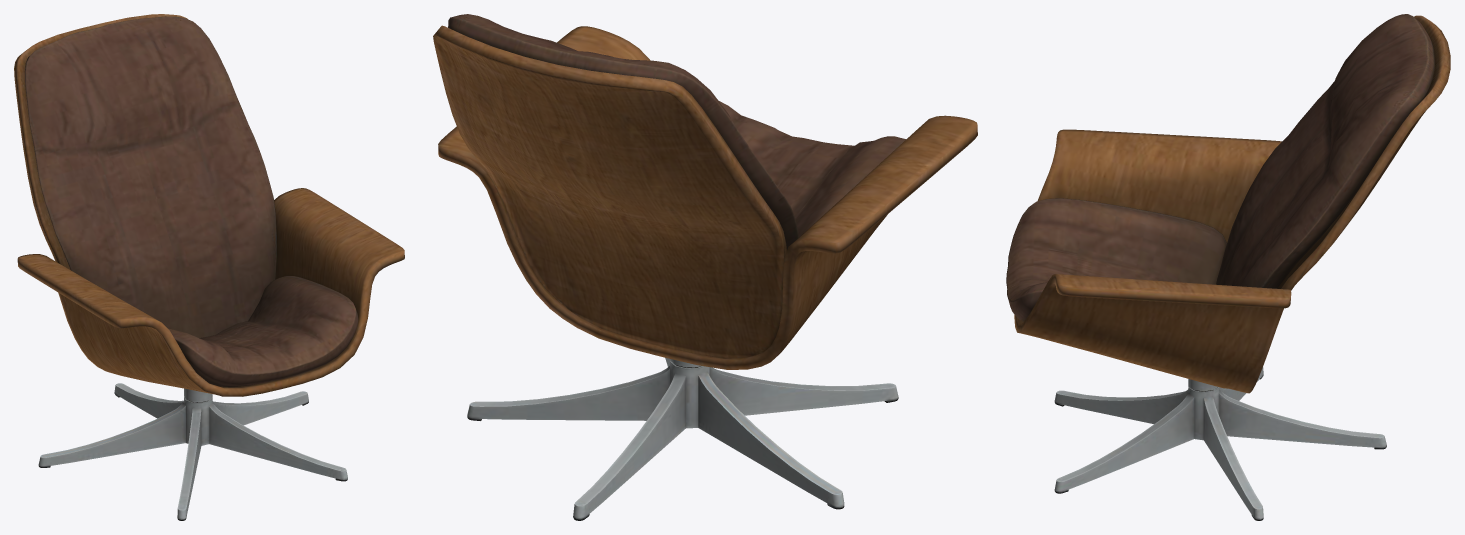
The model's file is mid_century_lounge_chair.glb.
3 renders of one model, left to right at view 1: azimuth 30°, elevation 25°; view 2: azimuth 150°, elevation 25°; view 3: azimuth 270°, elevation 25°, orthographic. The views are drawn at different scales.
Parts seen in each view (by area): view 1: mid_century_lounge_chair; view 2: mid_century_lounge_chair; view 3: mid_century_lounge_chair.
Part boxes in pixels (box(x1,y1,x2,y2)): mid_century_lounge_chair: box(14, 14, 404, 520); mid_century_lounge_chair: box(433, 14, 977, 520); mid_century_lounge_chair: box(1006, 14, 1450, 520).
Size of the model in its own units: 1.01 by 1.17 by 1.19.
1 material, 1 textured.
